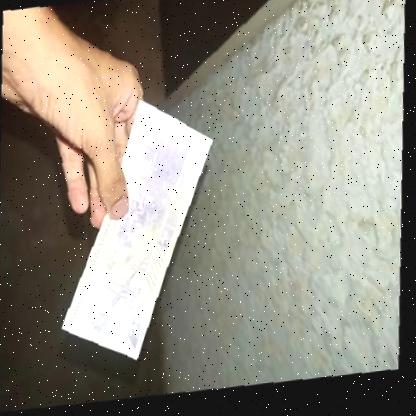vef_back: (50, 91, 227, 373)
